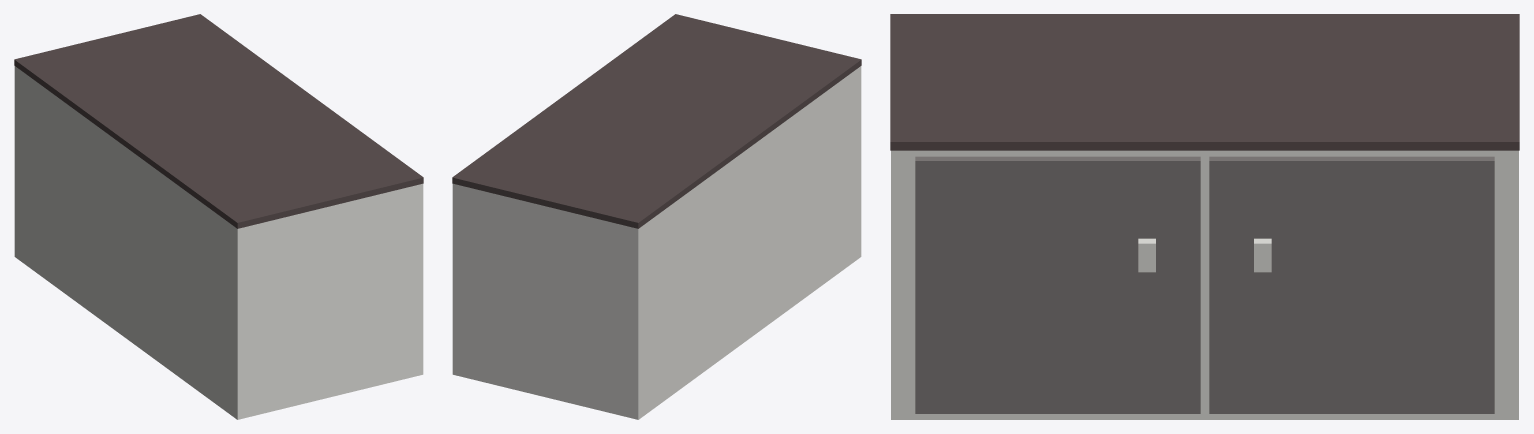
Rendered from kitchen_sideboard2.fbx.
3 views of the same model, side by side, from view 1: azimuth 30°, elevation 25°; view 2: azimuth 150°, elevation 25°; view 3: azimuth 270°, elevation 25° (orthographic). The views are drawn at different scales.
Visible parts, largest first — view 1: kitchen_sideboard2; view 2: kitchen_sideboard2; view 3: kitchen_sideboard2.
Part boxes in pixels (left/top/right/bottom): kitchen_sideboard2: left=14, top=14, right=423, bottom=419; kitchen_sideboard2: left=452, top=14, right=861, bottom=419; kitchen_sideboard2: left=890, top=14, right=1519, bottom=419.
Bounding box in the file's own units: 200 × 103 × 97.31.
